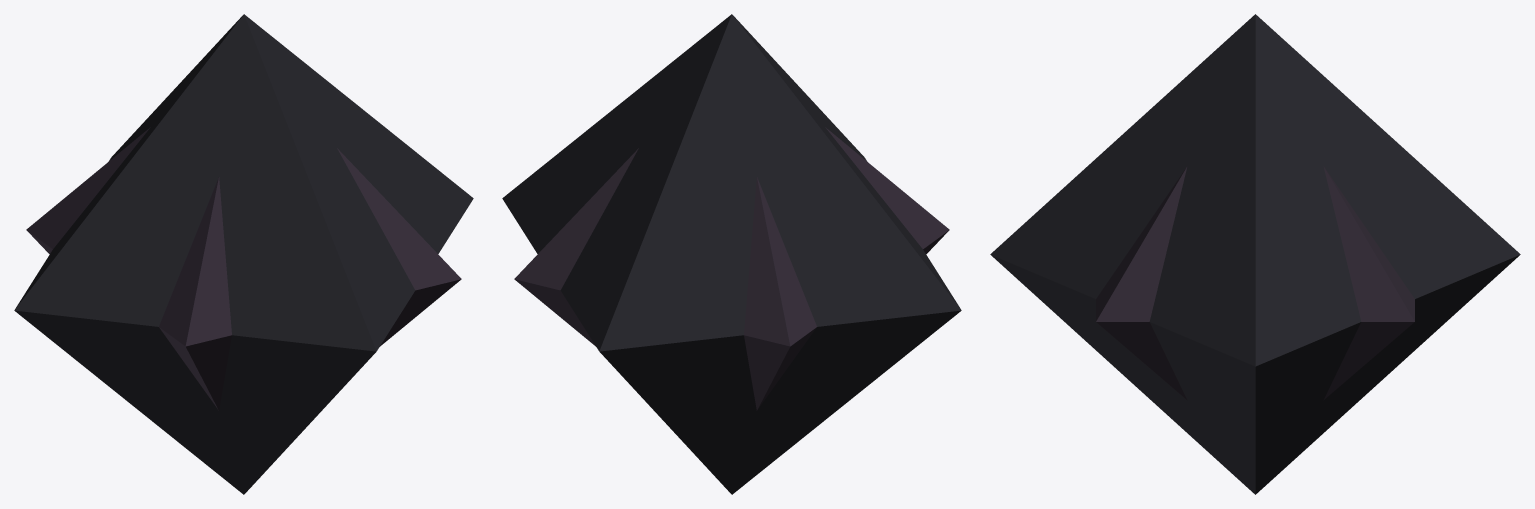
Rendered from rot_ash.glb.
The picture shows the model from 3 angles, left to right: view 1: azimuth 30°, elevation 25°; view 2: azimuth 150°, elevation 25°; view 3: azimuth 270°, elevation 25°; orthographic projection.
Visible parts, largest first — view 1: rot_ash; view 2: rot_ash; view 3: rot_ash.
Part boxes in pixels (x1,y1,x2,y2): rot_ash: (14, 14, 473, 494); rot_ash: (502, 14, 961, 494); rot_ash: (990, 14, 1520, 494).
Bounding box in the file's own units: 2 × 2 × 2.
Materials: 1 (1 with a texture image).
